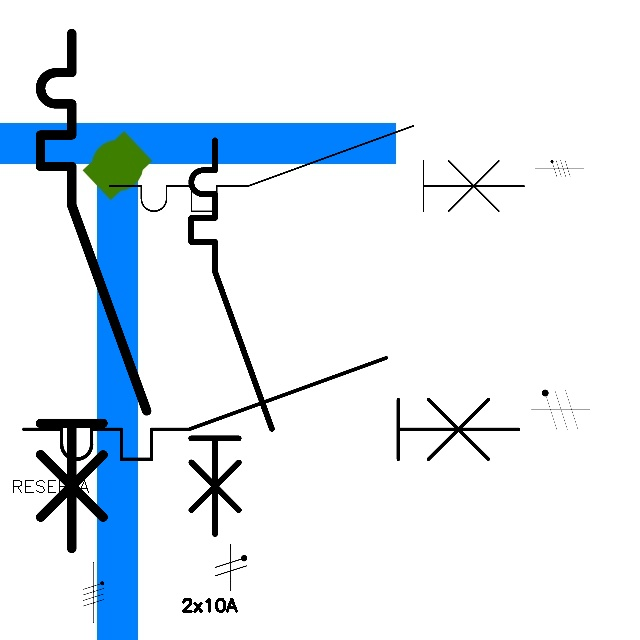interruptor_termomagnetico: (27, 20, 159, 561), (11, 345, 531, 472), (99, 115, 535, 222), (181, 130, 282, 544)
